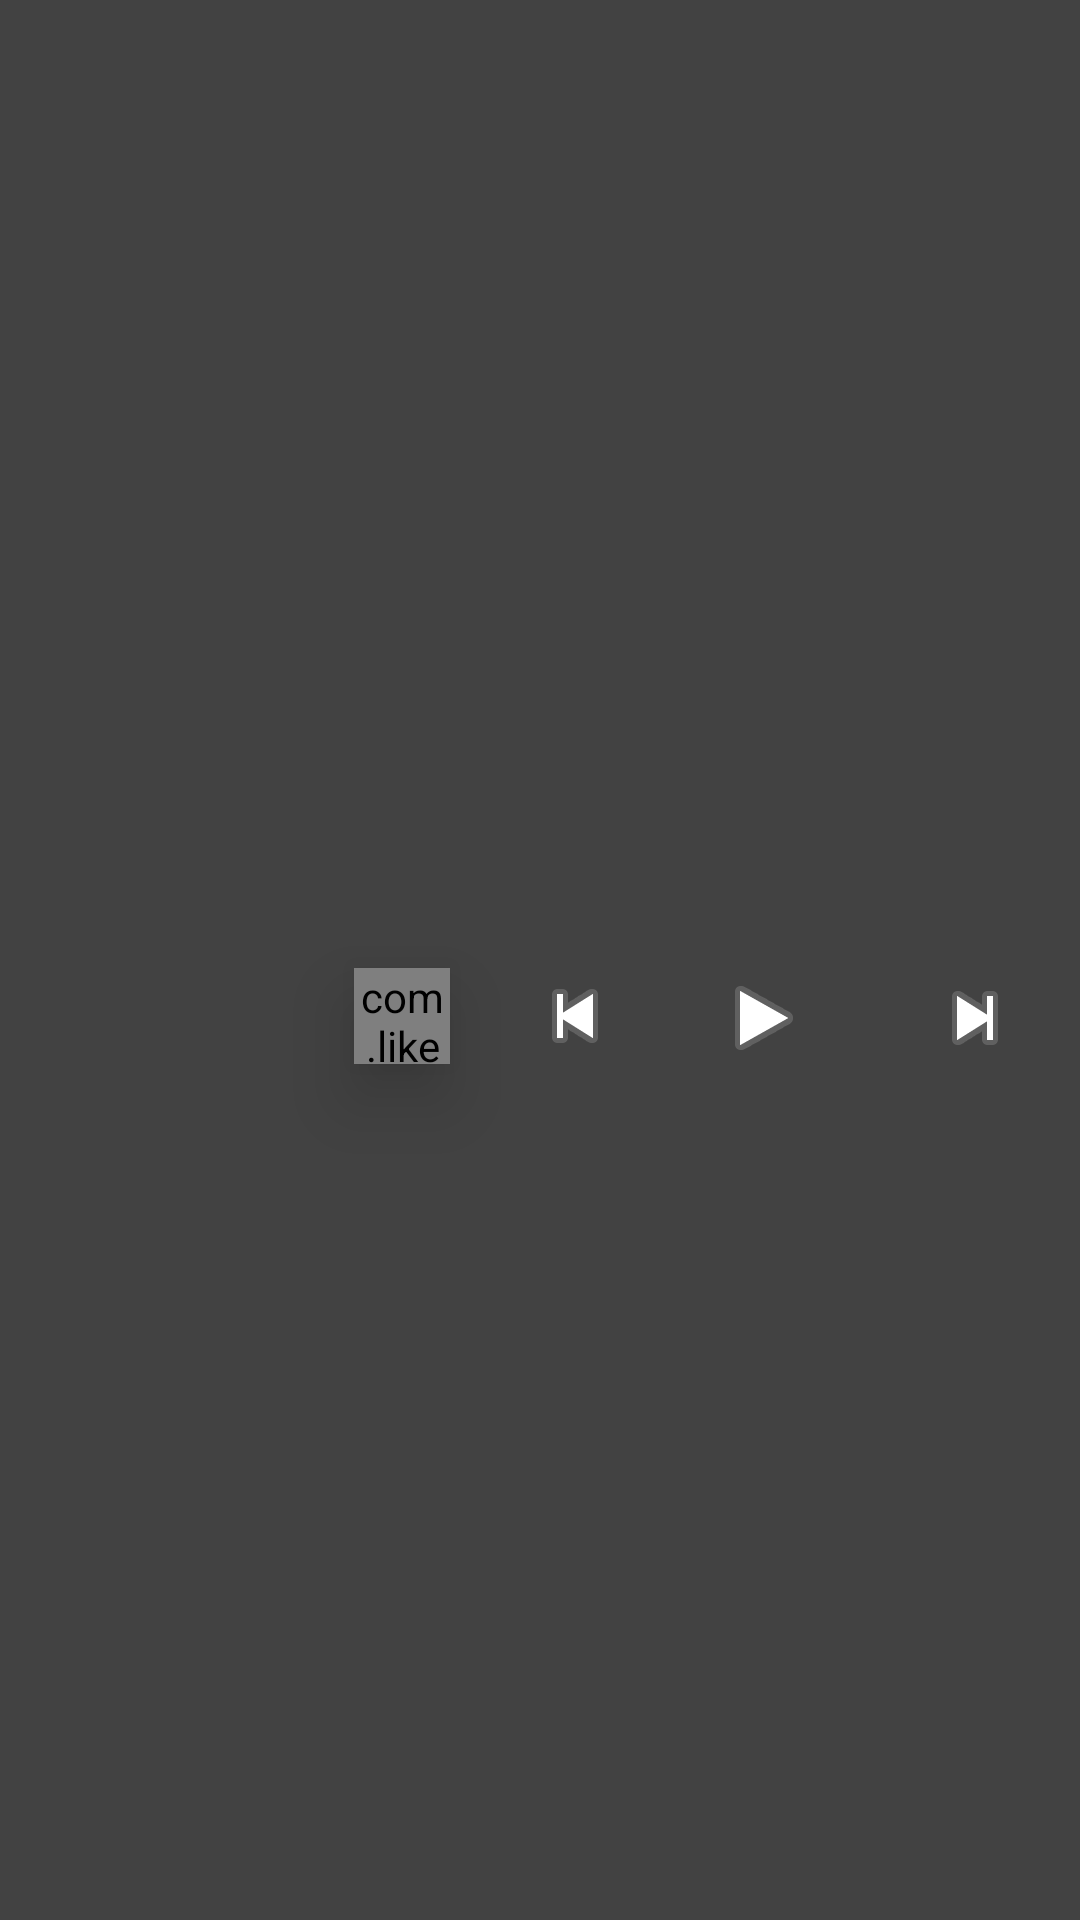

Where to tap for icons on this 1080w x 1920h app screen, as [x,y]:
next: [975,1018]
play: [764,1018]
previous: [575,1016]
